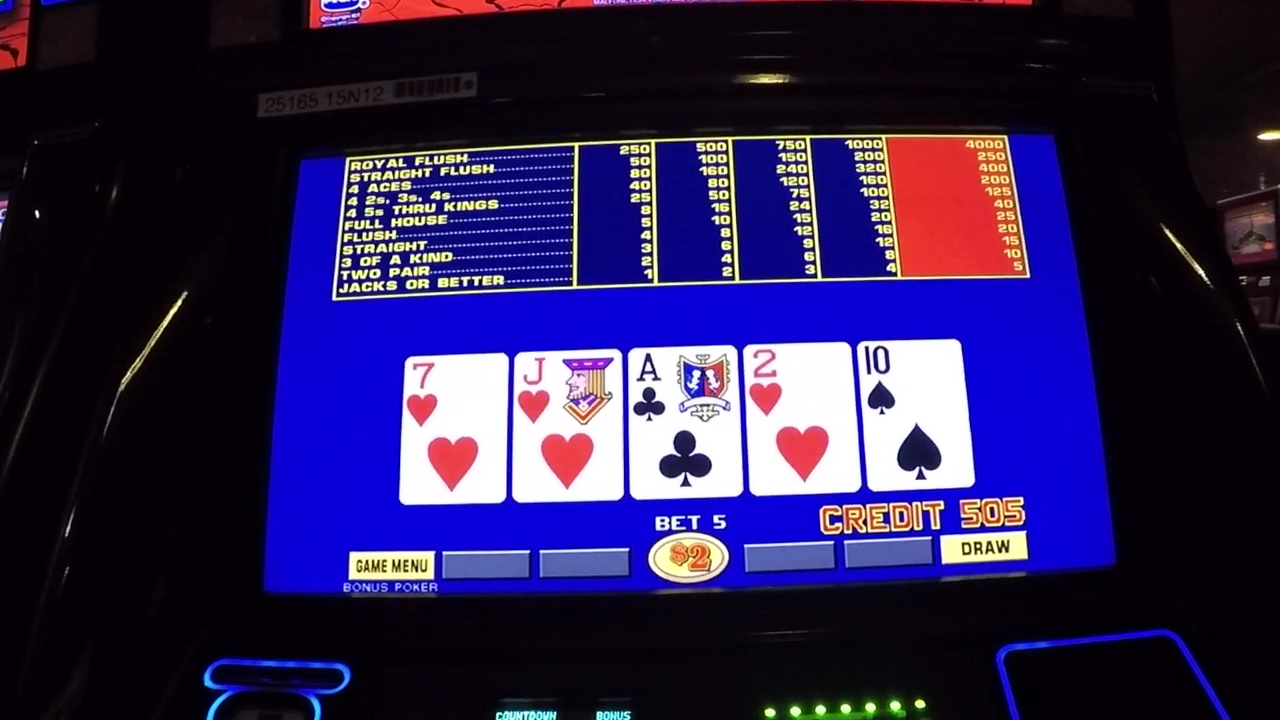CA: (633, 348, 735, 427)
H2: (748, 346, 850, 419)
H7: (407, 357, 508, 434)
HJ: (516, 350, 619, 428)
ST: (861, 343, 961, 415)
